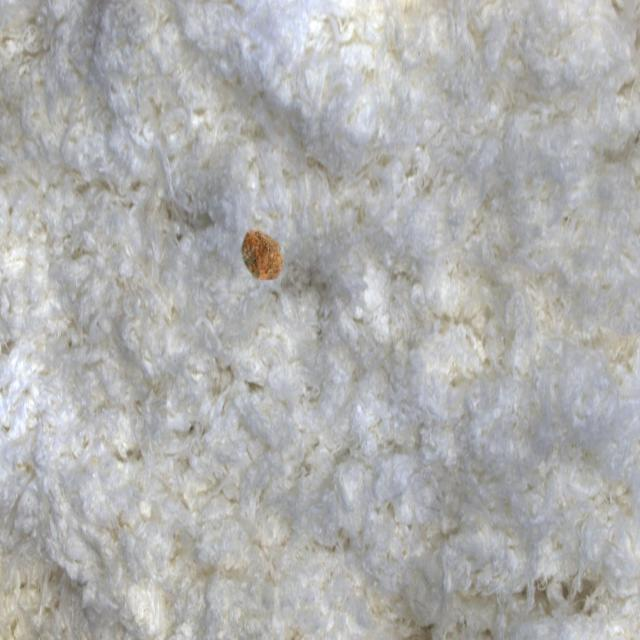dust: (224, 207, 309, 306)
